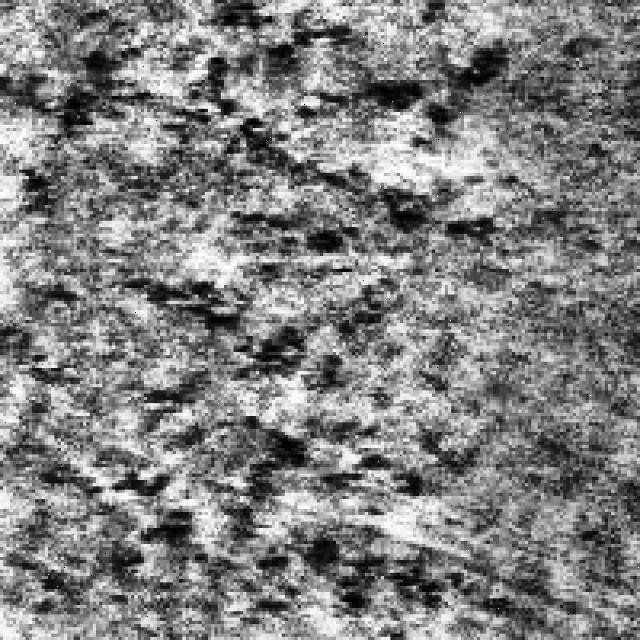Crazing: (64, 3, 531, 298), (93, 262, 448, 624)
